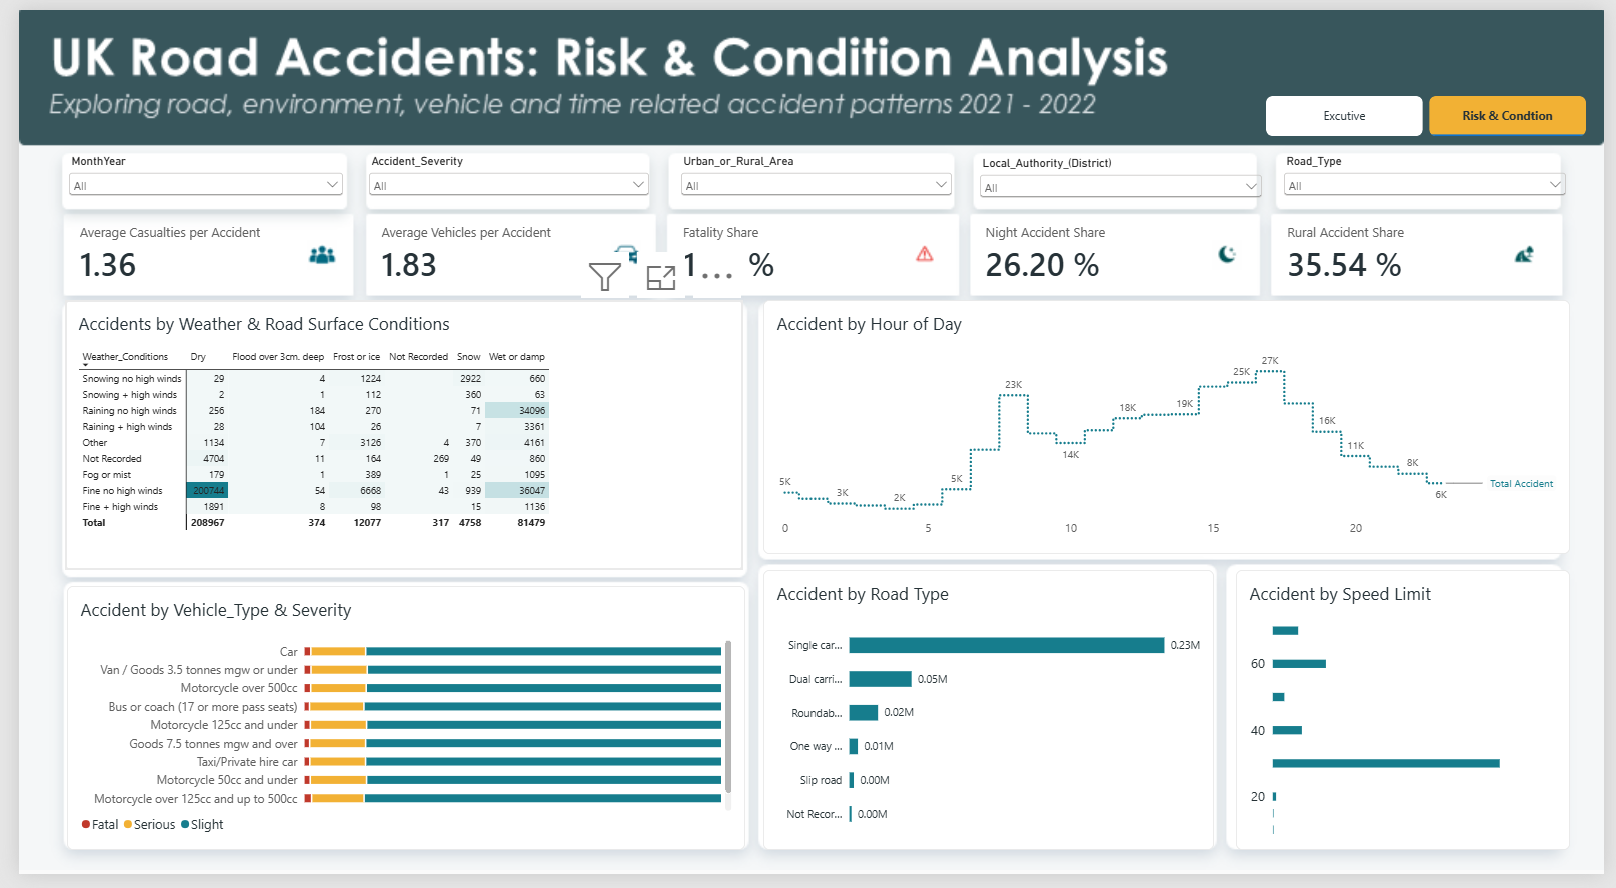

The page's visual inventory and layout, read from the dashboard file:
{"tool":"powerbi","page":{"name":"Risk & Condtion","canvas":[1980,1080],"ordinal":1},"visuals":[{"type":"cardVisual","fields":{"Data":["Measures_.Average Casualties per Accident","Measures_.Average Vehicle per Accident","Measures_.Fatality Share","Measures_.Night Accident Share","Measures_.Rural Accident Share"]},"box":[60,247.5,1877.5,115],"z":0},{"type":"clusteredBarChart","title":" Accident by Road Type","fields":{"Category":["Dim_Road.Road_Type"],"Y":["Measures_.Total Accident"]},"box":[930,700,562.5,350],"z":1000},{"type":"clusteredBarChart","title":"Accident by Speed Limit","fields":{"Category":["Dim_Road.Speed_limit"],"Y":["Measures_.Total Accident"]},"box":[1520,700,417.5,350],"z":2000},{"type":"hundredPercentStackedBarChart","title":" Accident by Vehicle_Type & Severity","fields":{"Category":["Dim_Vehicle.Vehicle_Type"],"Y":["Measures_.Total Accident"],"Series":["Fact_Accident.Accident_Severity"]},"box":[60,720,847.5,330],"z":3000},{"type":"pivotTable","title":"Accidents by Weather & Road Surface Conditions","fields":{"Rows":["Dim_Condition.Weather_Conditions"],"Columns":["Dim_Road.Road_Surface_Conditions"],"Values":["Measures_.Total Accident"]},"box":[57.5,362.5,847.5,337.5],"z":4000},{"type":"lineChart","title":"Accident by Hour of Day","fields":{"Category":["Fact_Accident.Hour"],"Y":["Measures_.Total Accident"]},"box":[930,362.5,1007.5,317.5],"z":5000},{"type":"slicer","fields":{"Values":["DateTable.MonthYear"]},"box":[57.5,180,352.5,67.5],"z":6000},{"type":"slicer","fields":{"Values":["Fact_Accident.Accident_Severity"]},"box":[432.5,180,360,67.5],"z":7000},{"type":"slicer","fields":{"Values":["Dim_Location.Urban_or_Rural_Area"]},"box":[822.5,180,347.5,67.5],"z":8000},{"type":"slicer","fields":{"Values":["Dim_Location.Local_Authority_(District)"]},"box":[1195,182.5,362.5,65],"z":9000},{"type":"slicer","fields":{"Values":["Dim_Road.Road_Type"]},"box":[1575,180,362.5,67.5],"z":10000},{"type":"pageNavigator","box":[1557.5,107.5,400,50],"z":11000}]}

Visuals, with their boxes in screenshot pixels (x1, y1, x2, y2), scaled from the page's 1980x1080 canvas onto the 1616x888 screenshot:
cardVisual - Measures_.Average Casualties per Accident x Measures_.Average Vehicle per Accident: 49,204,1581,298
" Accident by Road Type" clusteredBarChart: 759,576,1218,863
"Accident by Speed Limit" clusteredBarChart: 1241,576,1581,863
" Accident by Vehicle_Type & Severity" hundredPercentStackedBarChart: 49,592,741,863
"Accidents by Weather & Road Surface Conditions" pivotTable: 47,298,739,576
"Accident by Hour of Day" lineChart: 759,298,1581,559
slicer - DateTable.MonthYear: 47,148,335,204
slicer - Fact_Accident.Accident_Severity: 353,148,647,204
slicer - Dim_Location.Urban_or_Rural_Area: 671,148,955,204
slicer - Dim_Location.Local_Authority_(District): 975,150,1271,204
slicer - Dim_Road.Road_Type: 1285,148,1581,204
pageNavigator: 1271,88,1598,130
